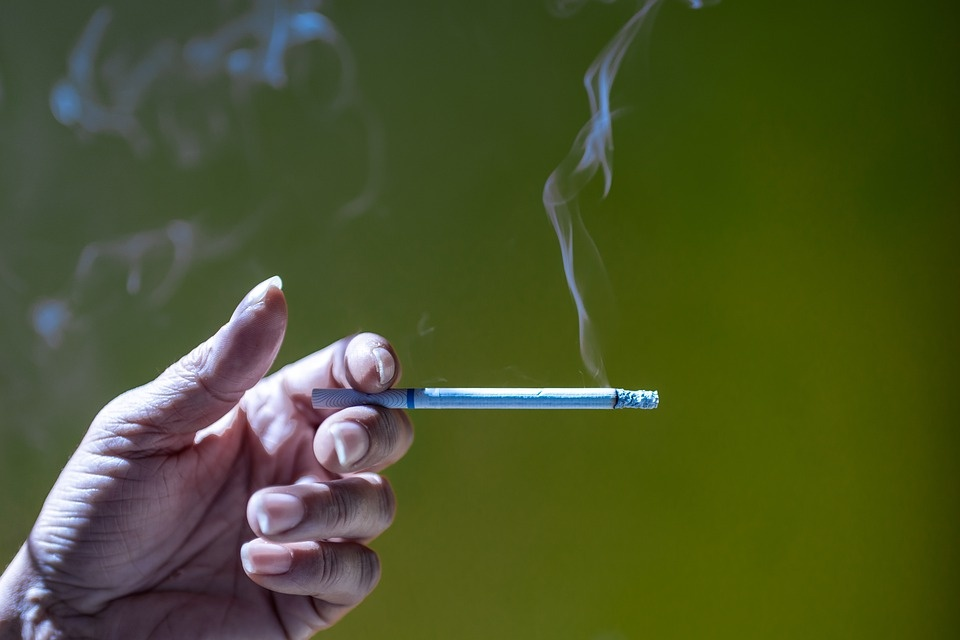sigaretta: (303, 377, 663, 411)
